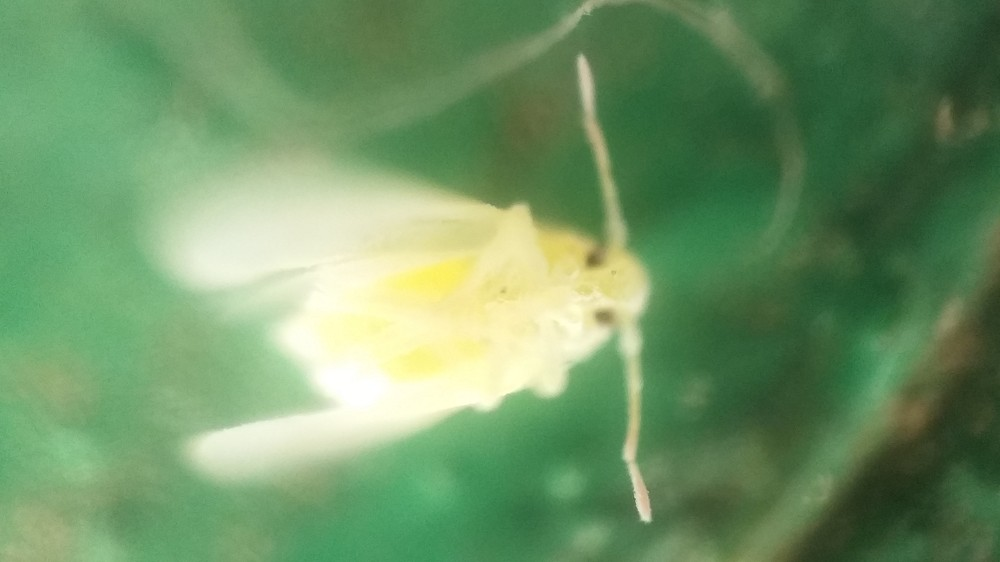Mosca Blanca: (135, 46, 692, 546)
